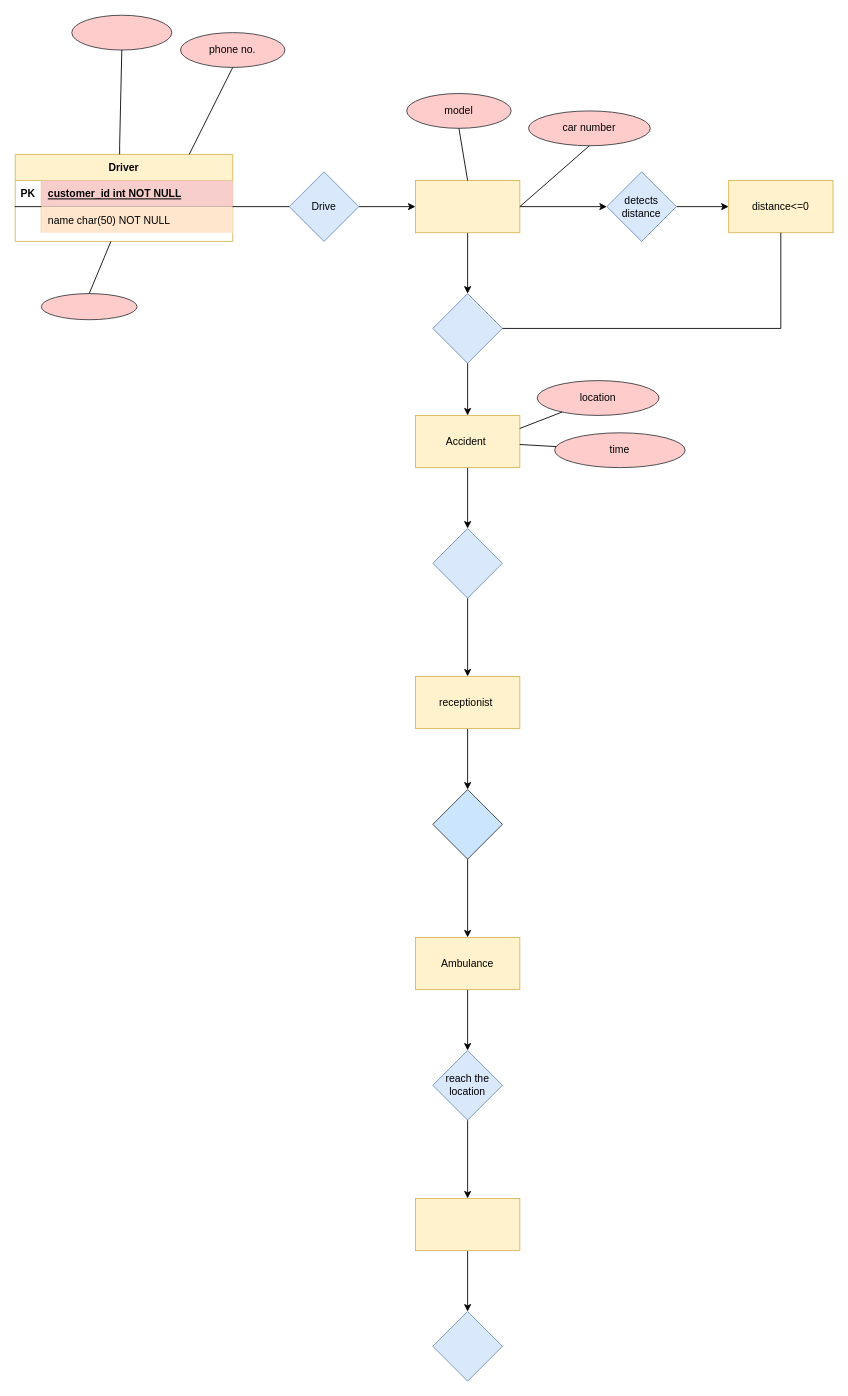
This 848x1396 diagram has some shape labels left out. The shapes that lost their labels are listed below. From the top down, each one's centre as x and y in pixels, then its label:
the point at 121,32: address
the point at 467,206: Car
the point at 88,306: name
the point at 467,328: happens
the point at 467,563: Emergency Call
the point at 467,824: detects the location
the point at 467,1224: Patient
